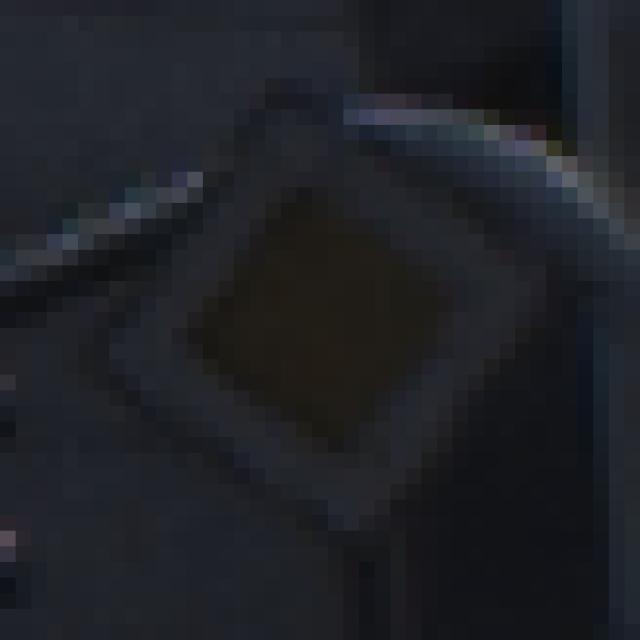Main Road: (79, 79, 563, 563)
